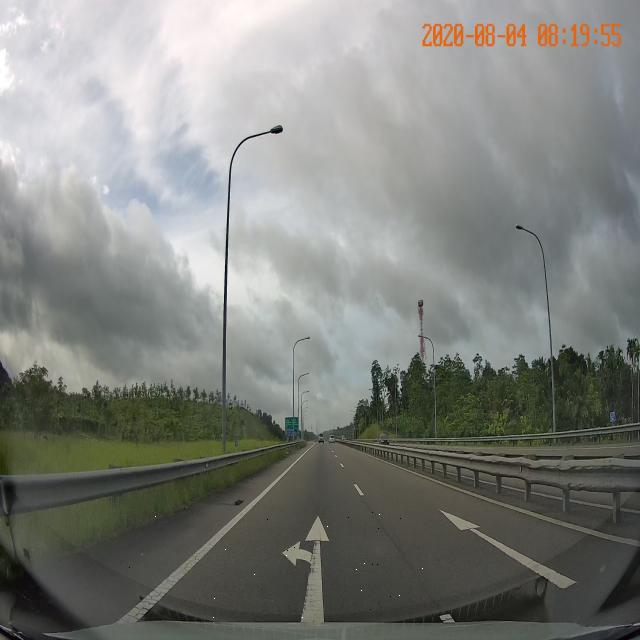forward_lft: (125, 507, 454, 621)
